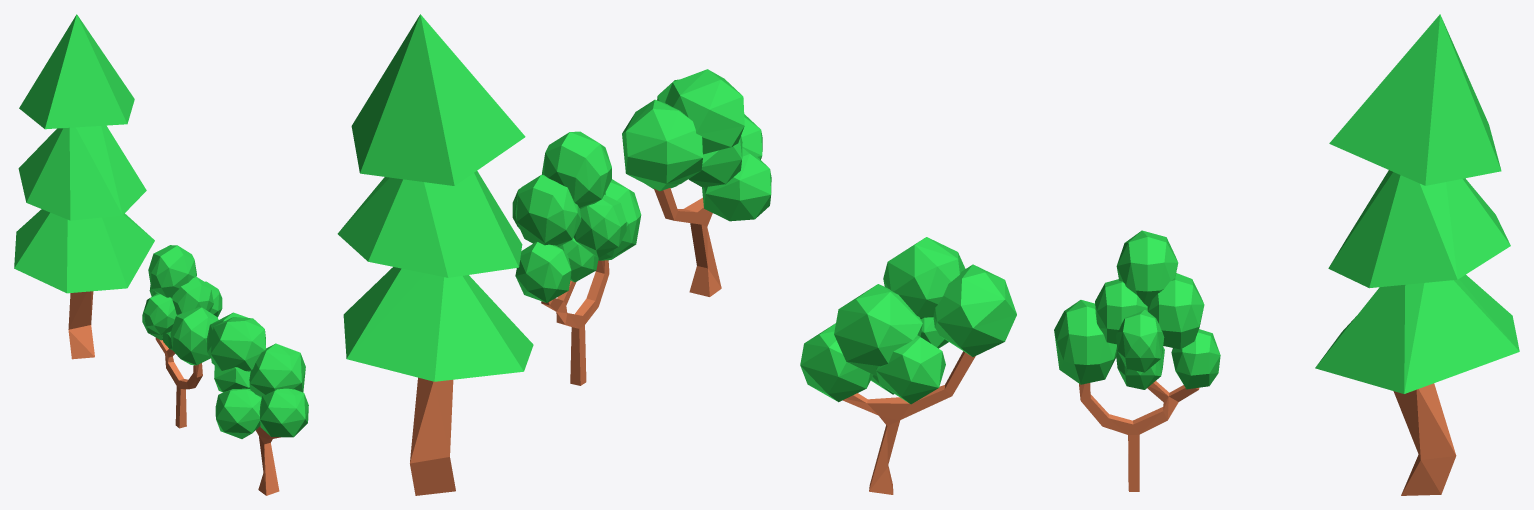
File: Arvores.fbx
3 renders of one model, left to right at view 1: azimuth 30°, elevation 25°; view 2: azimuth 150°, elevation 25°; view 3: azimuth 270°, elevation 25°, orthographic. The views are drawn at different scales.
Parts seen in each view (by area): view 1: Arvore 3, Arvore 1, Arvore 2; view 2: Arvore 3, Arvore 1, Arvore 2; view 3: Arvore 3, Arvore 1, Arvore 2.
Boxes of the visible parts, x1,y1,x2,y2 form: Arvore 3: [14, 14, 154, 359]; Arvore 1: [207, 312, 308, 495]; Arvore 2: [142, 245, 222, 428]; Arvore 3: [337, 14, 533, 495]; Arvore 1: [622, 69, 771, 296]; Arvore 2: [512, 131, 641, 385]; Arvore 3: [1315, 14, 1519, 495]; Arvore 1: [800, 237, 1016, 494]; Arvore 2: [1054, 230, 1220, 491].
Size of the model in its own units: 667 by 1601 by 2181.
